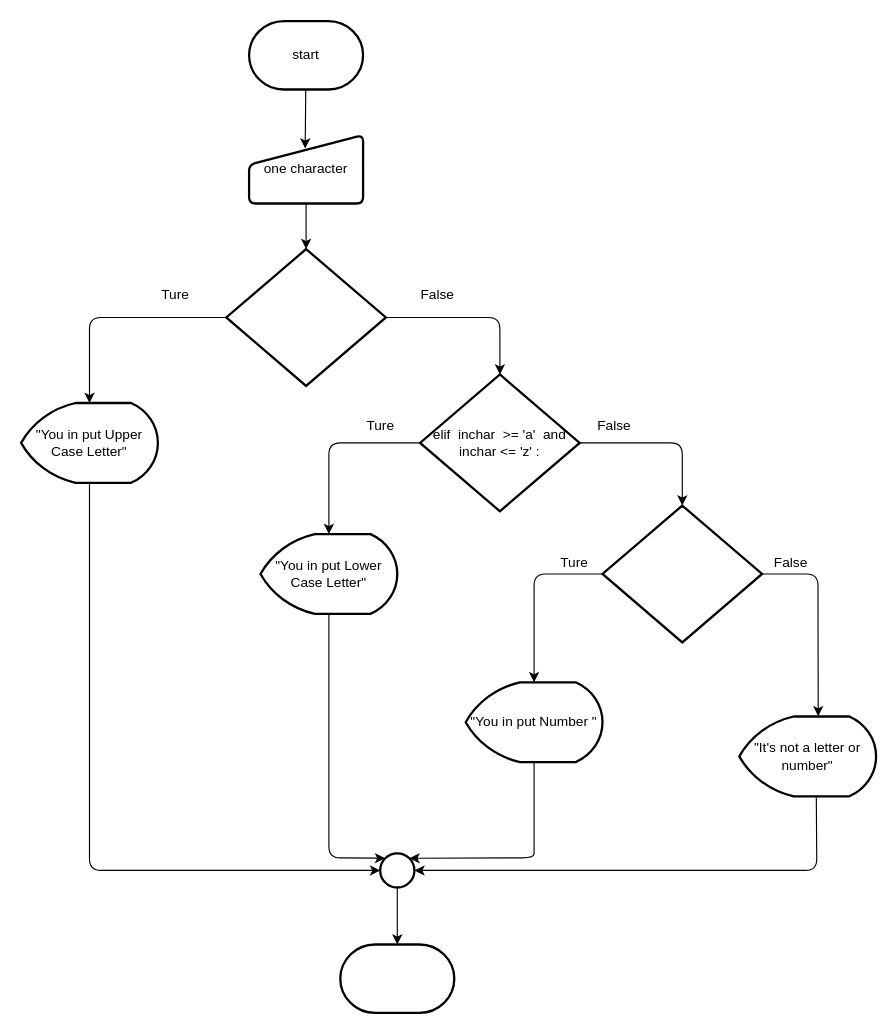
This 896x1033 diagram has some shape labels left out. Here are the shapes that lost their labels. From the top down, the box of each, then its label:
(225, 247, 386, 386): if inchar >= 'A' and inchar <= 'Z' :
(601, 504, 763, 643): elif inchar >= '0' and inchar <= '9' :
(339, 943, 455, 1013): end
